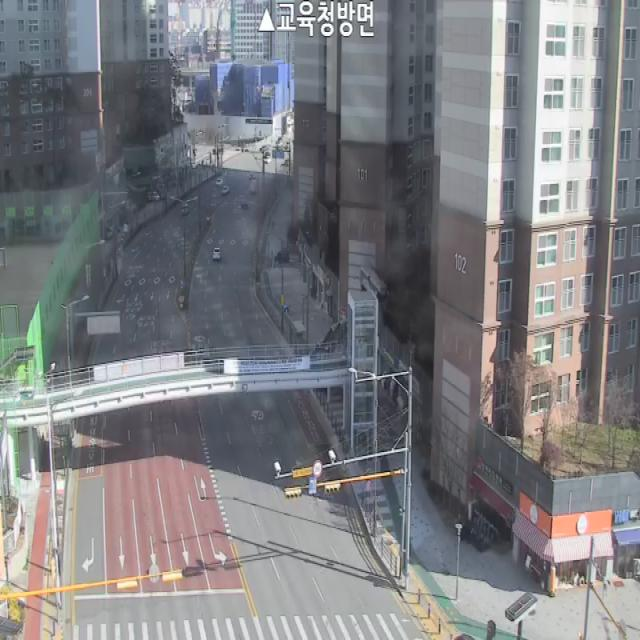Car: (213, 248, 221, 260), (216, 178, 223, 186), (222, 186, 229, 194)
